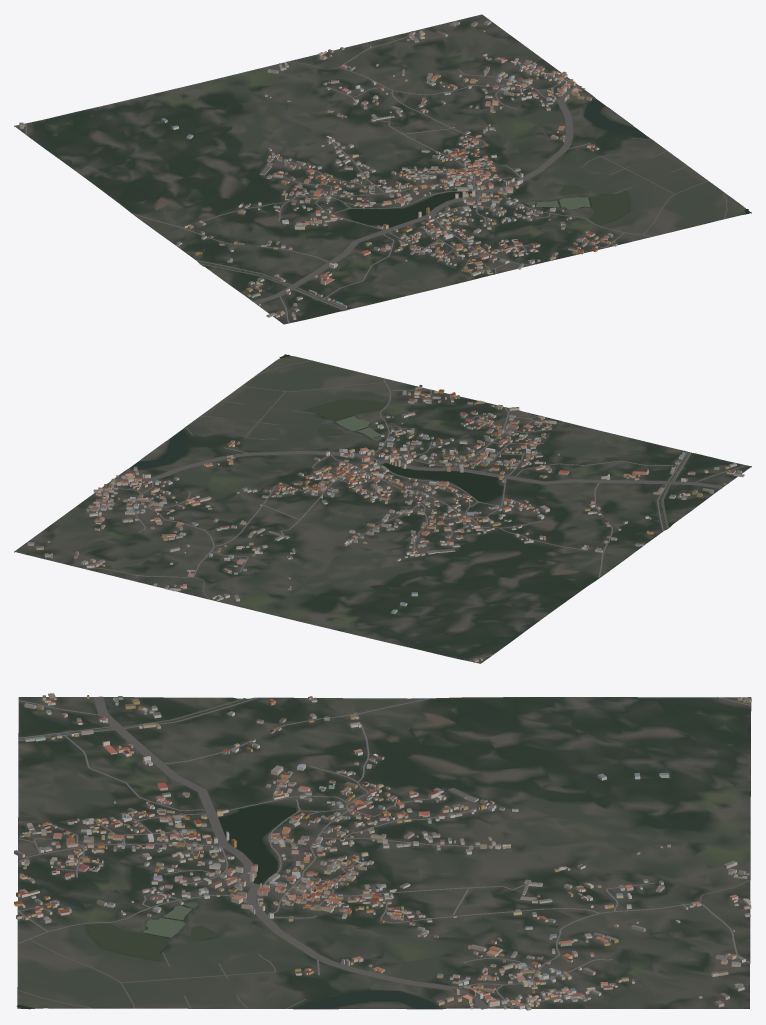
3 views of the same model, one above another, from view 1: azimuth 30°, elevation 25°; view 2: azimuth 150°, elevation 25°; view 3: azimuth 270°, elevation 25° (orthographic). The views are drawn at different scales.
Parts seen in each view (by area): view 1: ground, buildings, roads, water; view 2: ground, buildings, roads, water; view 3: ground, buildings, roads, water.
Boxes of the visible parts, left/top/right/bottom form: ground: left=14, top=14, right=751, bottom=324; buildings: left=19, top=20, right=617, bottom=319; roads: left=25, top=35, right=727, bottom=323; water: left=200, top=99, right=748, bottom=310; ground: left=14, top=354, right=751, bottom=663; buildings: left=27, top=385, right=744, bottom=662; roads: left=83, top=360, right=746, bottom=661; water: left=130, top=354, right=690, bottom=528; ground: left=17, top=697, right=751, bottom=1009; buildings: left=14, top=693, right=751, bottom=1010; roads: left=17, top=696, right=751, bottom=1009; water: left=16, top=698, right=437, bottom=1009.
Size of the model in its own units: 1421 by 23.18 by 1412.
